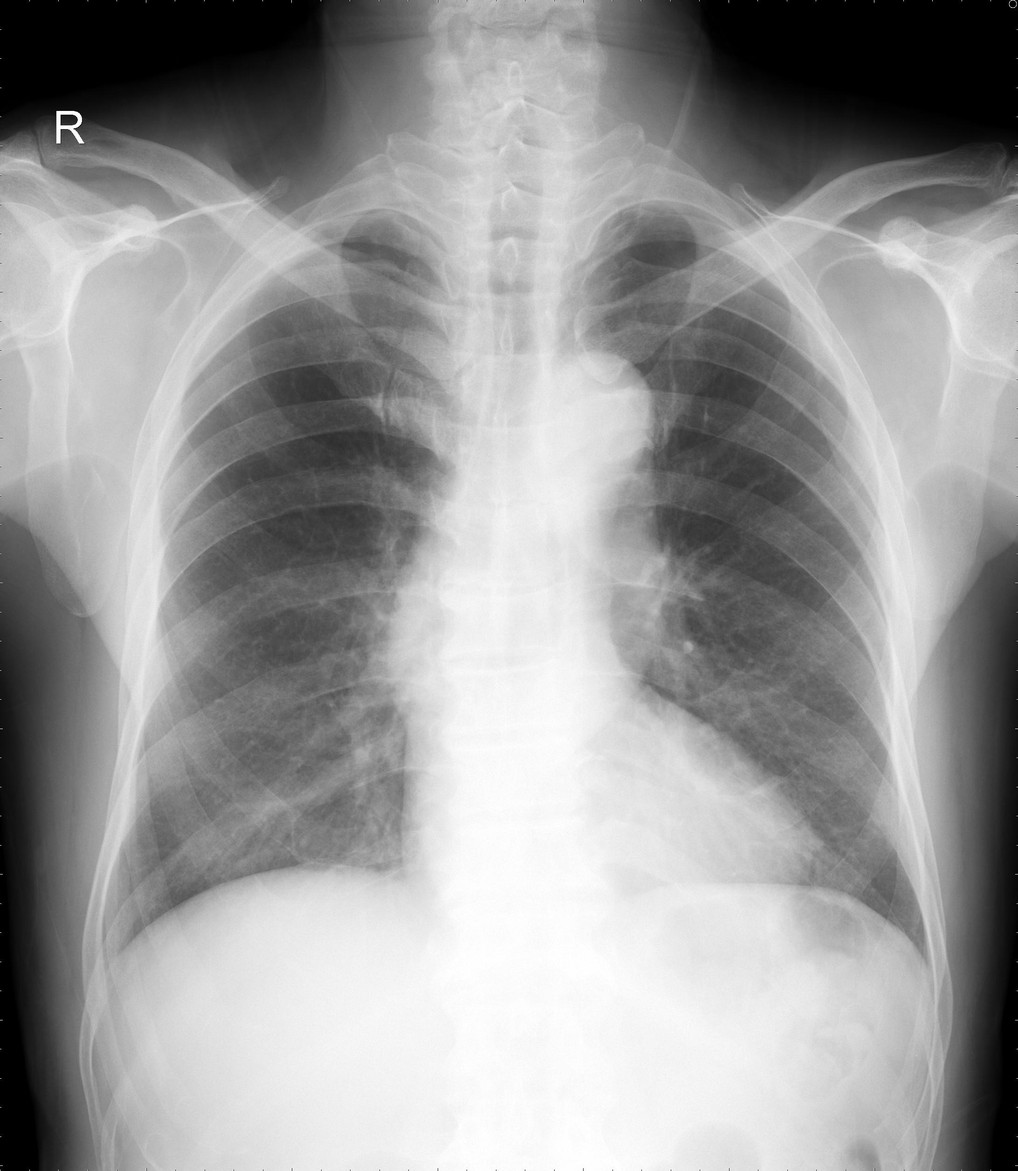Aortic enlargement: (523, 352, 660, 516)
Cardiomegaly: (391, 780, 824, 875)
